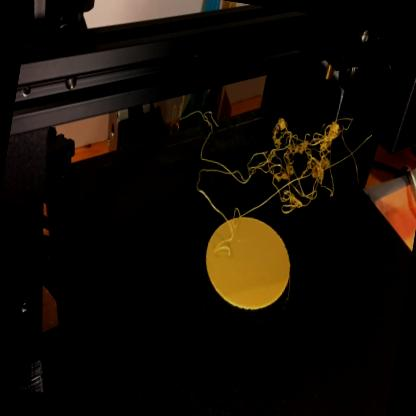fail: (233, 109, 361, 228)
